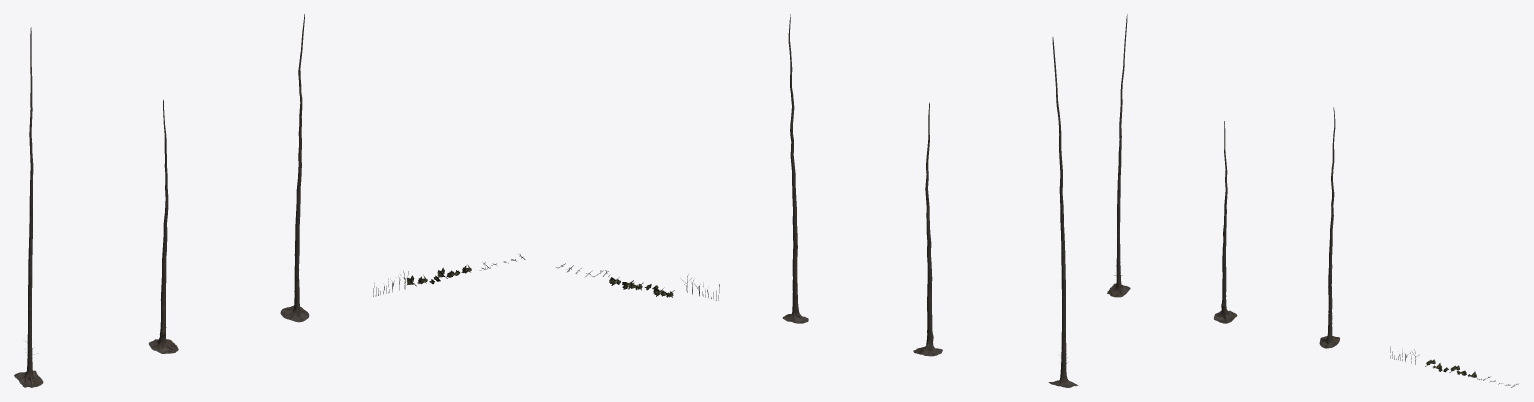
The model's file is field_pine_a_lod1.glb.
3 views of the same model, side by side, from view 1: azimuth 30°, elevation 25°; view 2: azimuth 150°, elevation 25°; view 3: azimuth 330°, elevation 25° (orthographic). The views are drawn at different scales.
Parts seen in each view (by area): view 1: bark_lod1, foliage_lod1; view 2: bark_lod1, foliage_lod1; view 3: bark_lod1.
Boxes of the visible parts, x1,y1,x2,y2 form: bark_lod1: (14,14,408,387); foliage_lod1: (407,254,525,286); bark_lod1: (681,14,1078,387); foliage_lod1: (556,263,674,297); bark_lod1: (1107,14,1419,364).
Size of the model in its own units: 26.71 by 17.69 by 1.41.
Materials: 2 (2 with a texture image).
